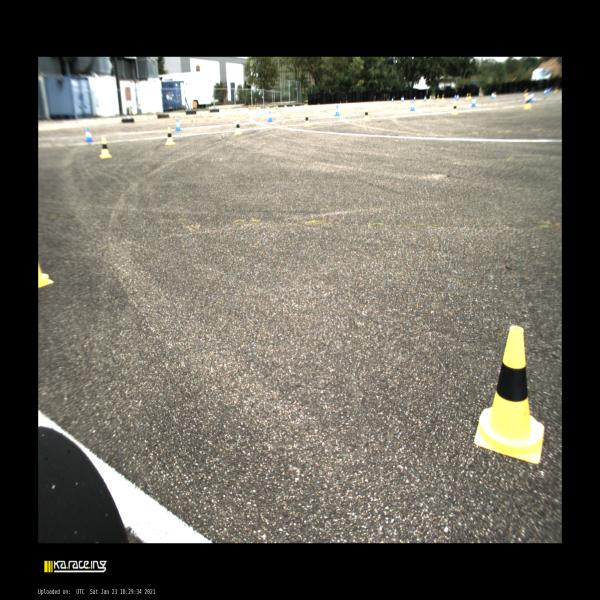blue_cone: (86, 128, 94, 142), (174, 118, 182, 132), (334, 105, 340, 116), (268, 111, 273, 122), (410, 101, 415, 111), (471, 97, 476, 107), (529, 92, 534, 102), (543, 88, 547, 95), (491, 92, 494, 99), (456, 95, 459, 101), (413, 96, 416, 100), (548, 87, 550, 93), (424, 96, 426, 101), (392, 97, 394, 102), (402, 97, 404, 102), (454, 94, 456, 98), (401, 96, 402, 101)
yellow_cone: (475, 326, 544, 464), (38, 262, 54, 288), (100, 136, 112, 158), (165, 127, 175, 145), (234, 119, 242, 135), (303, 112, 311, 126), (451, 101, 458, 115), (363, 108, 370, 121), (524, 96, 531, 109), (441, 94, 445, 101), (554, 86, 558, 93), (524, 90, 528, 96), (436, 94, 439, 102), (466, 93, 469, 100), (429, 95, 432, 101), (469, 93, 471, 99), (494, 92, 496, 98)
